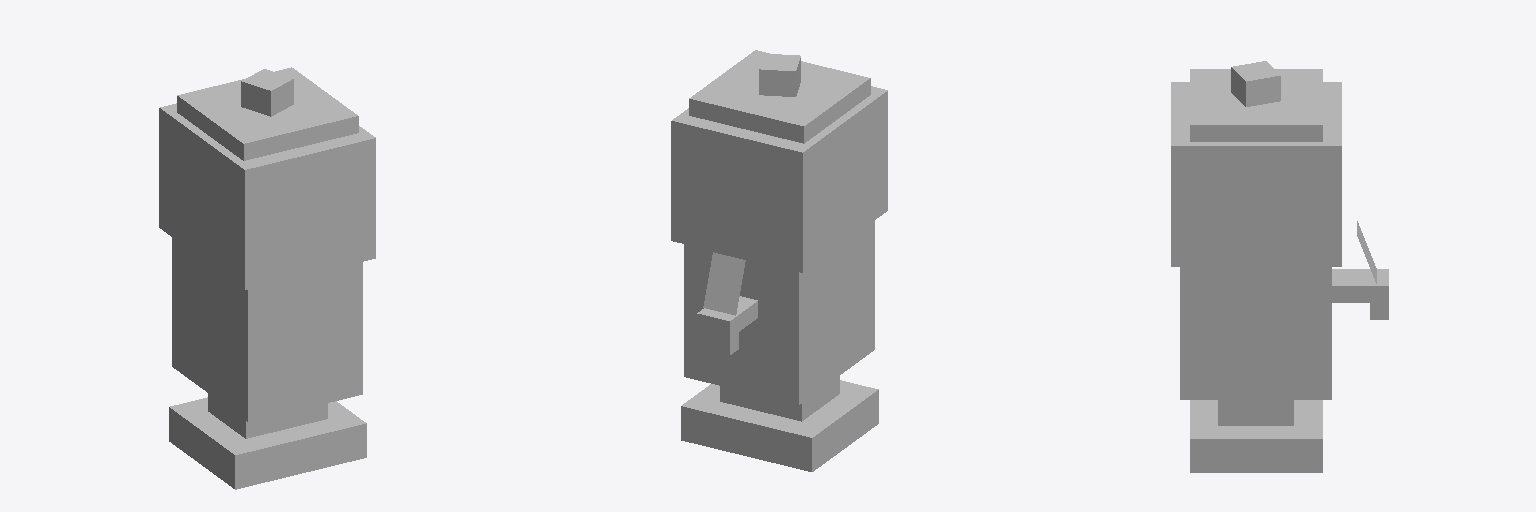
The model's file is filtro.obj.
The picture shows the model from 3 angles: view 1: azimuth 30°, elevation 25°; view 2: azimuth 150°, elevation 25°; view 3: azimuth 270°, elevation 25°; orthographic projection.
Visible parts, largest first — view 1: cube, Filtro; view 2: cube, Filtro; view 3: cube, Filtro.
Part boxes in pixels (x1,y1,x2,y2): cube: (159,67,375,438); Filtro: (169,397,366,489); cube: (671,50,887,421); Filtro: (681,380,878,471); cube: (1171,61,1388,425); Filtro: (1190,400,1322,472).
Size of the model in its own units: 0.5 by 1.34 by 0.7188.